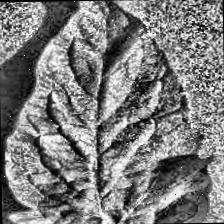spider mites: (4, 0, 211, 224)
